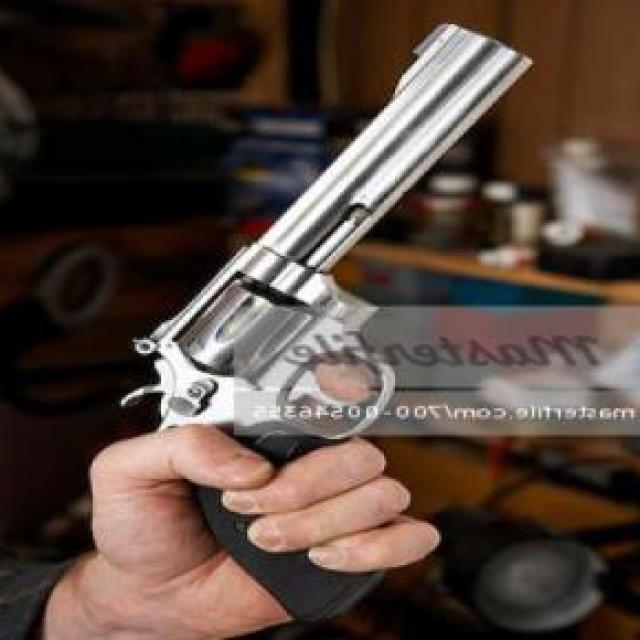pistol: (152, 24, 545, 614)
